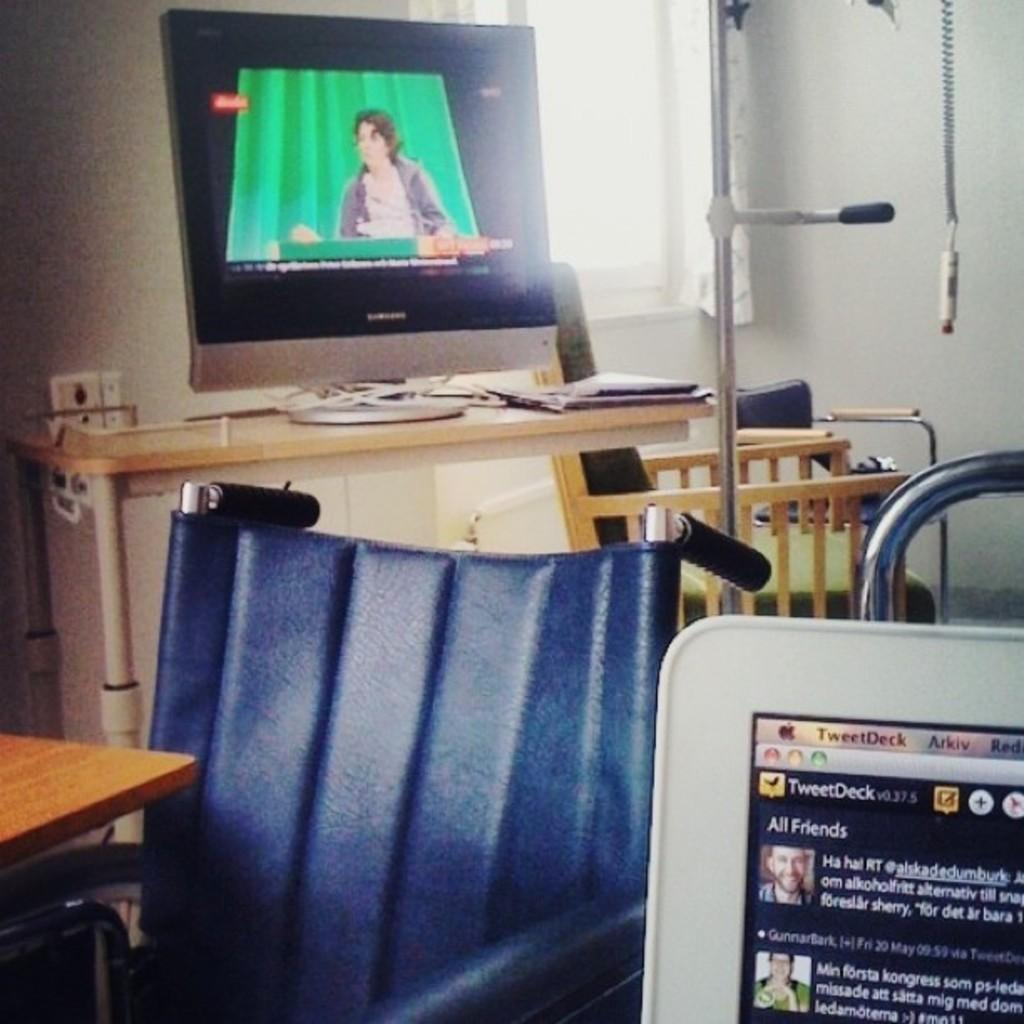Chair: (142, 485, 745, 1024), (537, 256, 937, 643), (728, 378, 949, 622)
Computer-monitor: (176, 5, 556, 428), (664, 616, 1022, 1022)
